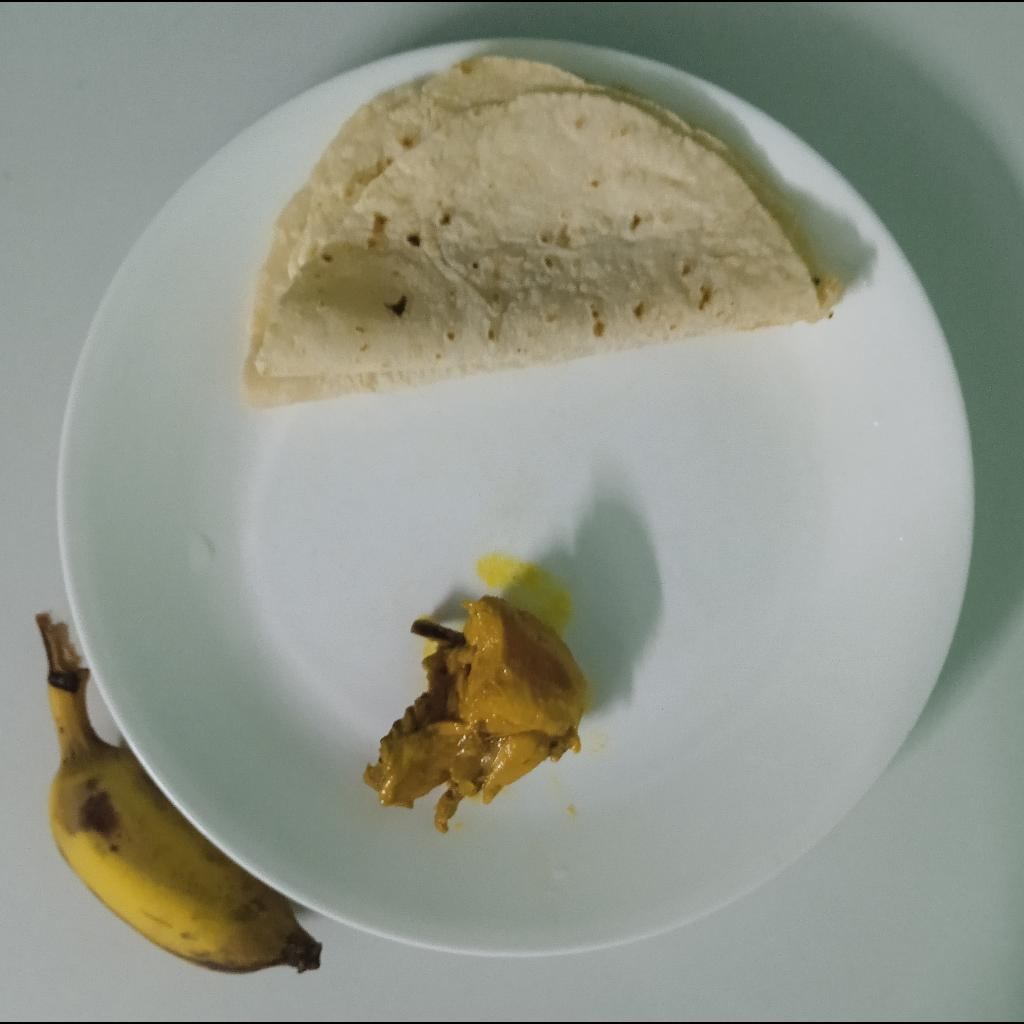banana: (36, 614, 322, 974)
chicken: (363, 595, 587, 833)
ruti: (244, 58, 841, 408)
